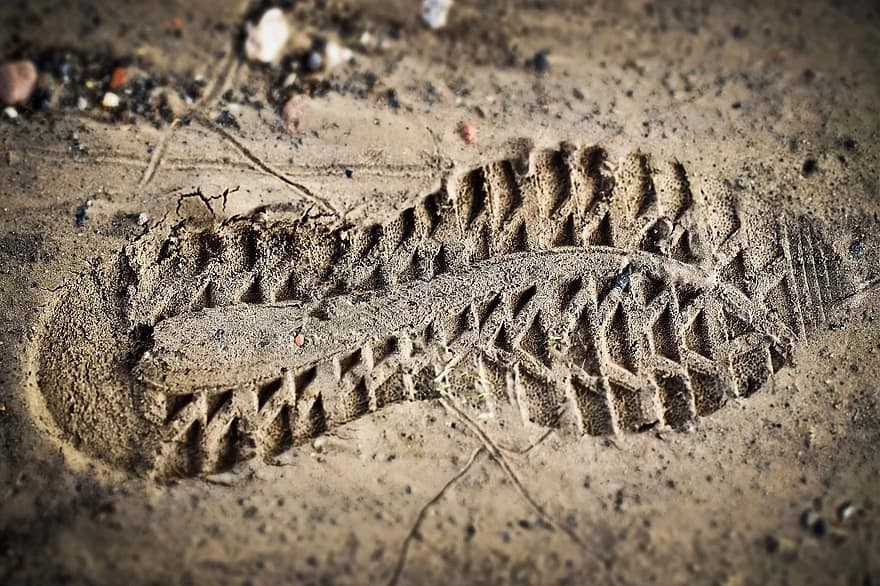human_foot_print: (55, 145, 876, 494)
